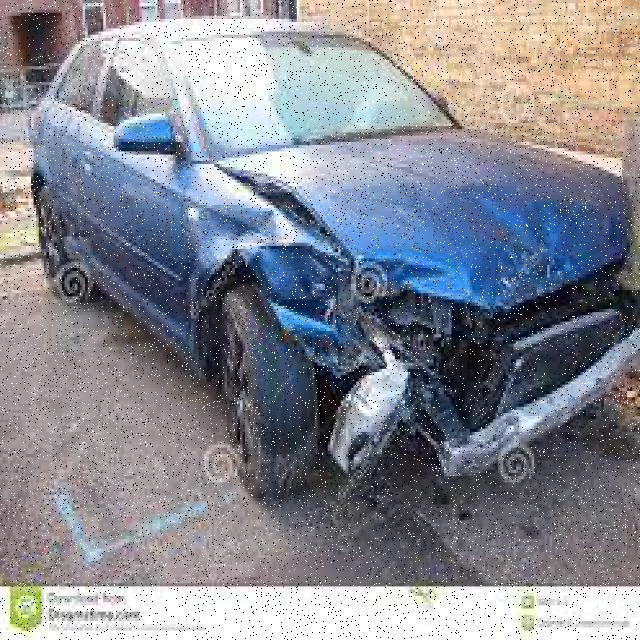bonnet-dent: (312, 124, 630, 294)
fender-dent: (194, 198, 330, 382)
front-bumper-dent: (332, 264, 638, 488)
